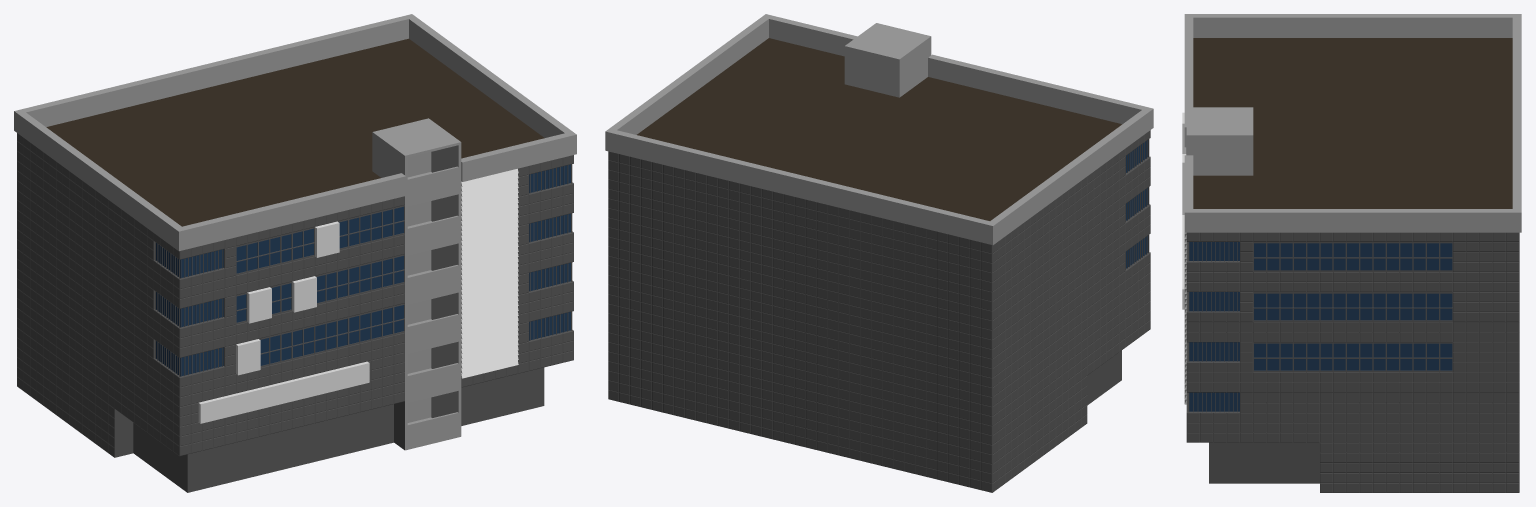
Rendered from PanelBuilding.fbx.
3 renders of one model, left to right at view 1: azimuth 30°, elevation 25°; view 2: azimuth 150°, elevation 25°; view 3: azimuth 270°, elevation 25°, orthographic. The views are drawn at different scales.
Visible parts, largest first — view 1: Panel Building; view 2: Panel Building; view 3: Panel Building.
Part boxes in pixels (x1,y1,x2,y2): Panel Building: (14,14,576,492); Panel Building: (605,14,1153,492); Panel Building: (1182,14,1521,492).
Bounding box in the file's own units: 2120 × 1500 × 1530.
